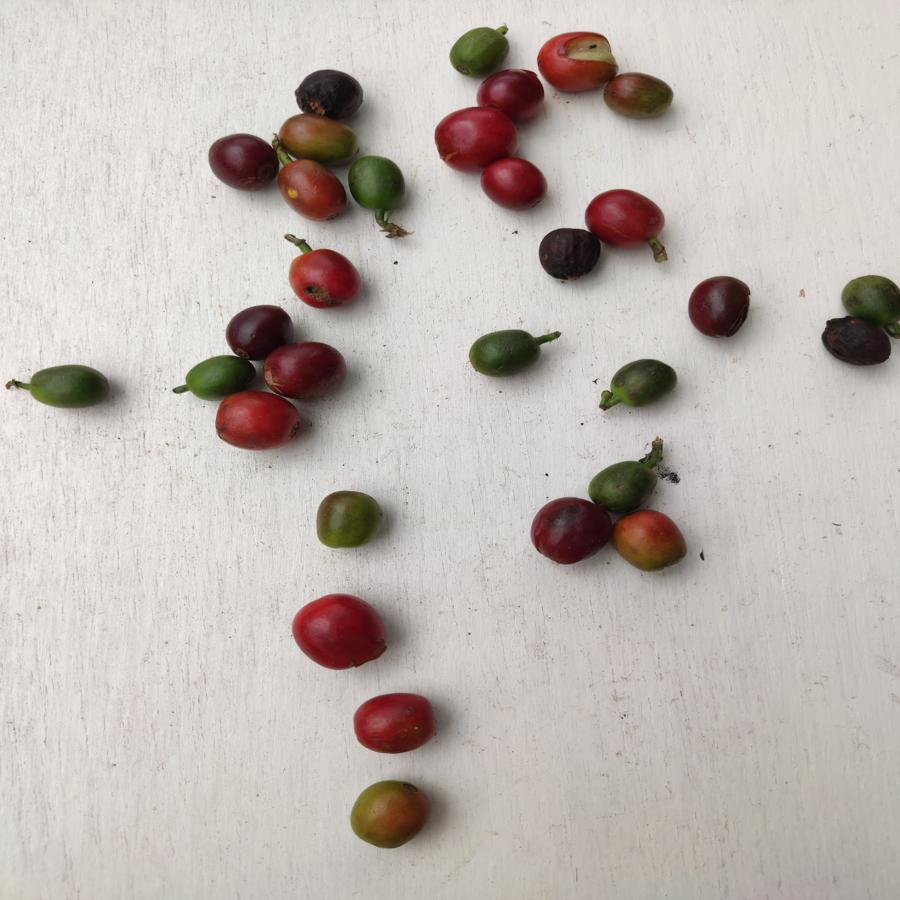Inmaduro: (582, 454, 664, 509), (27, 362, 112, 413), (468, 326, 544, 381), (606, 357, 680, 408), (348, 156, 409, 212), (179, 353, 247, 403), (837, 271, 898, 320), (451, 26, 509, 76)
Maduro: (286, 593, 393, 669), (351, 692, 440, 755), (212, 394, 308, 450), (283, 245, 363, 308), (533, 31, 607, 95), (585, 181, 665, 238), (435, 109, 517, 164), (479, 154, 551, 212)
Pinton: (349, 771, 436, 855), (309, 485, 388, 553), (613, 511, 693, 573), (277, 115, 361, 170), (279, 161, 349, 224), (605, 68, 677, 122)
Sobremaduro: (528, 493, 610, 567), (266, 344, 356, 400), (685, 273, 754, 342), (205, 134, 279, 196), (221, 300, 297, 357), (824, 317, 896, 373), (538, 225, 603, 283), (294, 68, 369, 118), (480, 68, 544, 121)
